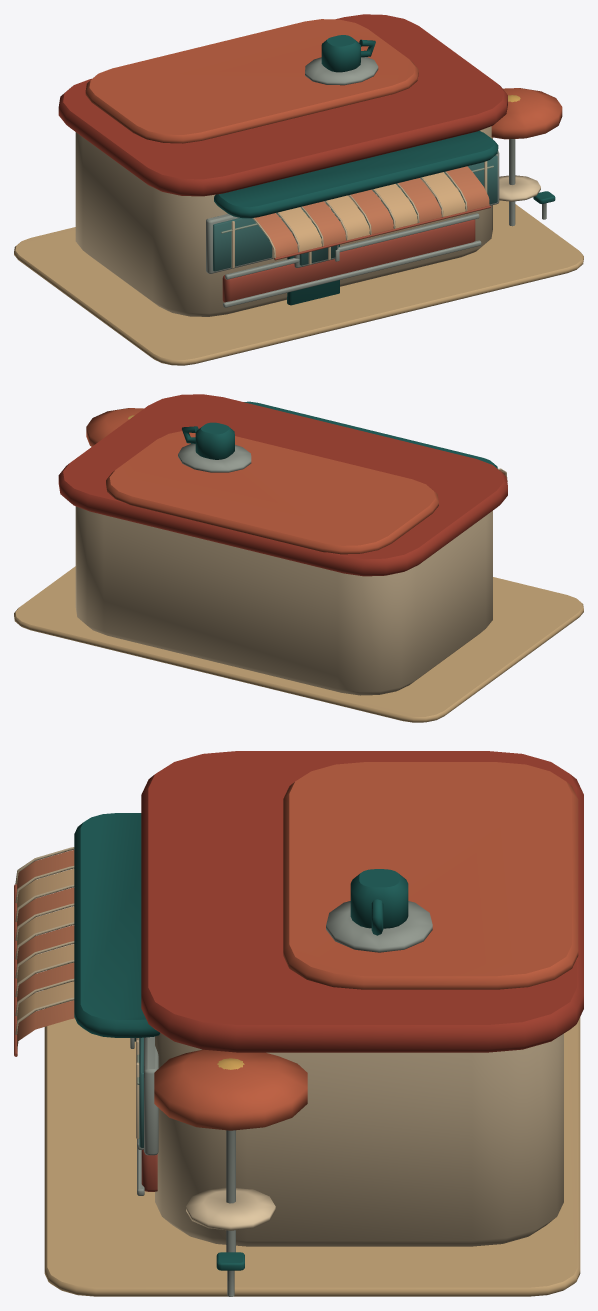
Rendered from cafe.glb.
3 views of the same model, one above another, from view 1: azimuth 30°, elevation 25°; view 2: azimuth 150°, elevation 25°; view 3: azimuth 270°, elevation 25° (orthographic). The views are drawn at different scales.
Visible parts, largest first — view 1: Cafe; view 2: Cafe; view 3: Cafe.
Part boxes in pixels (x1=…): Cafe: x1=14, y1=14, x2=583, y2=365; Cafe: x1=14, y1=394, x2=583, y2=722; Cafe: x1=14, y1=751, x2=583, y2=1296.
Bounding box in the file's own units: 7.92 × 3.17 × 5.45.
